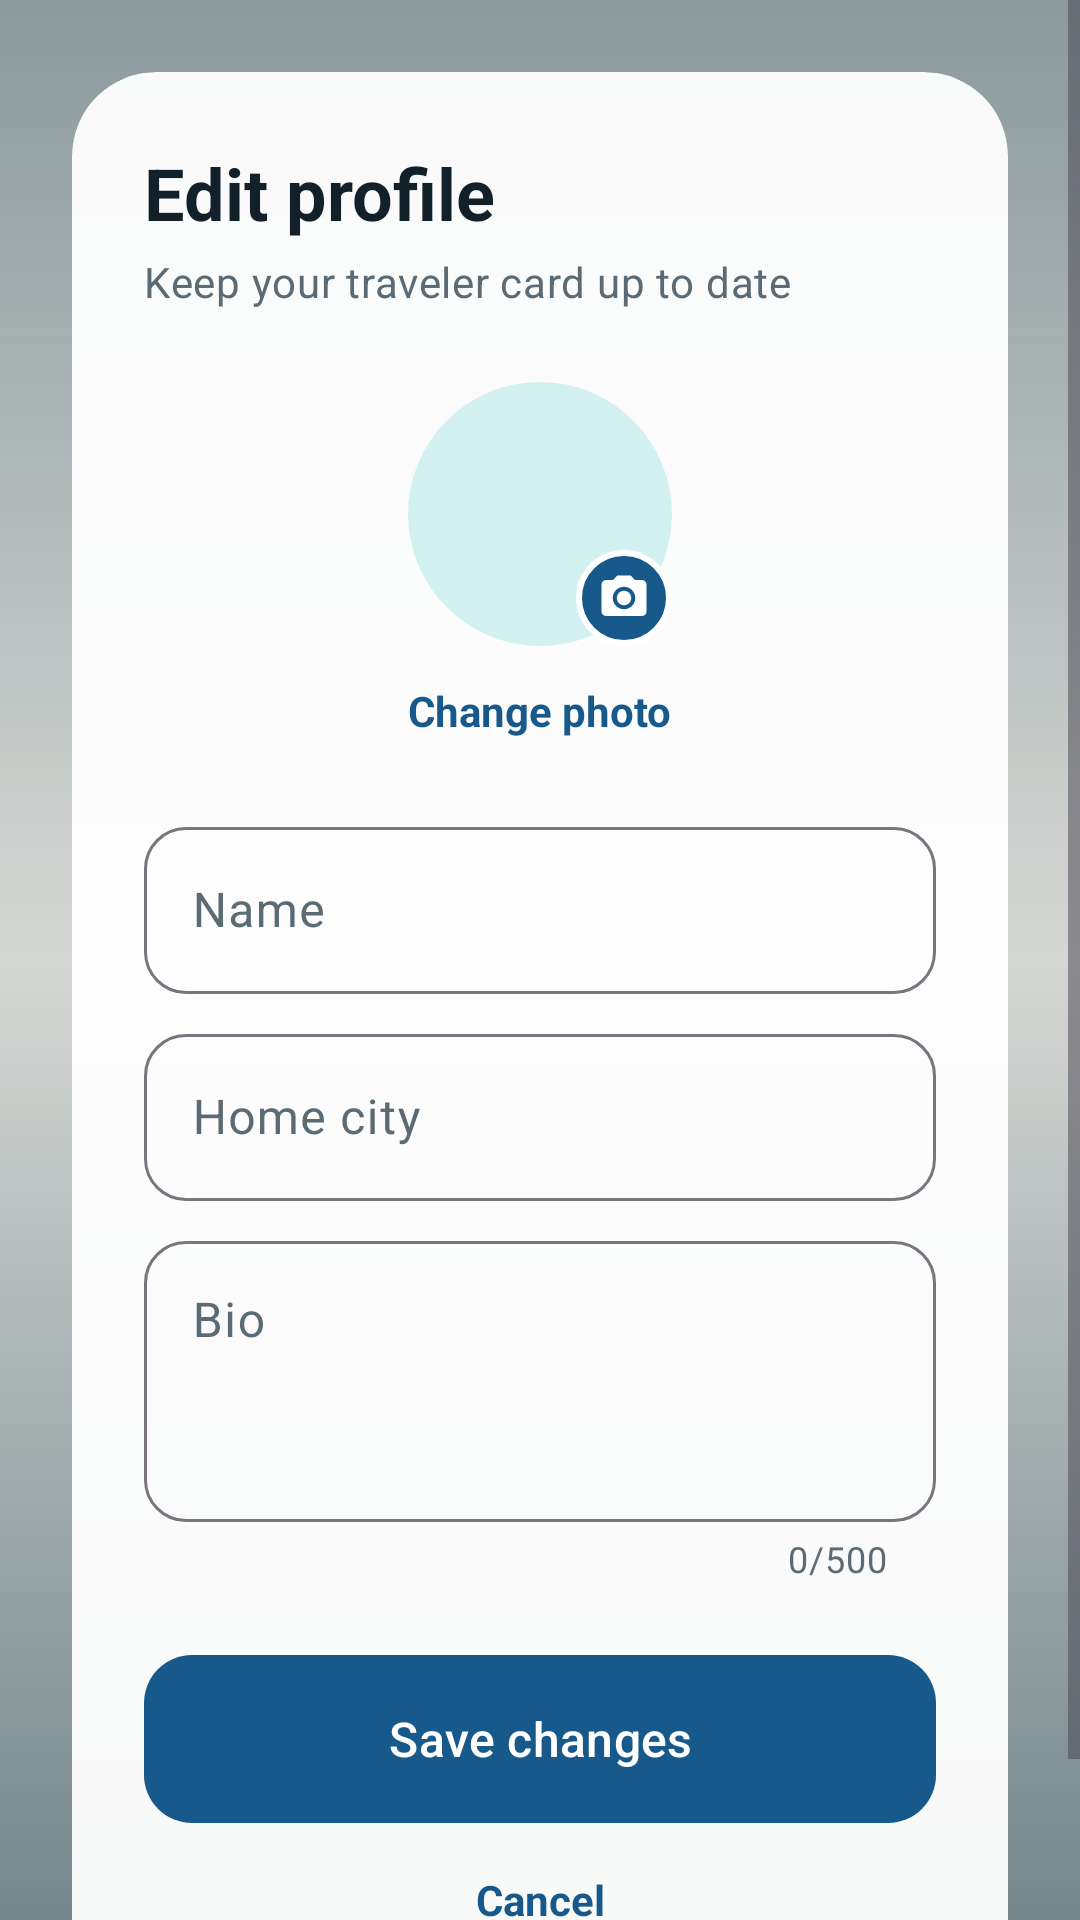

Icon click points for this 1080x1920 phone screenshot, format point (x, y):
camera: point (624, 598)
